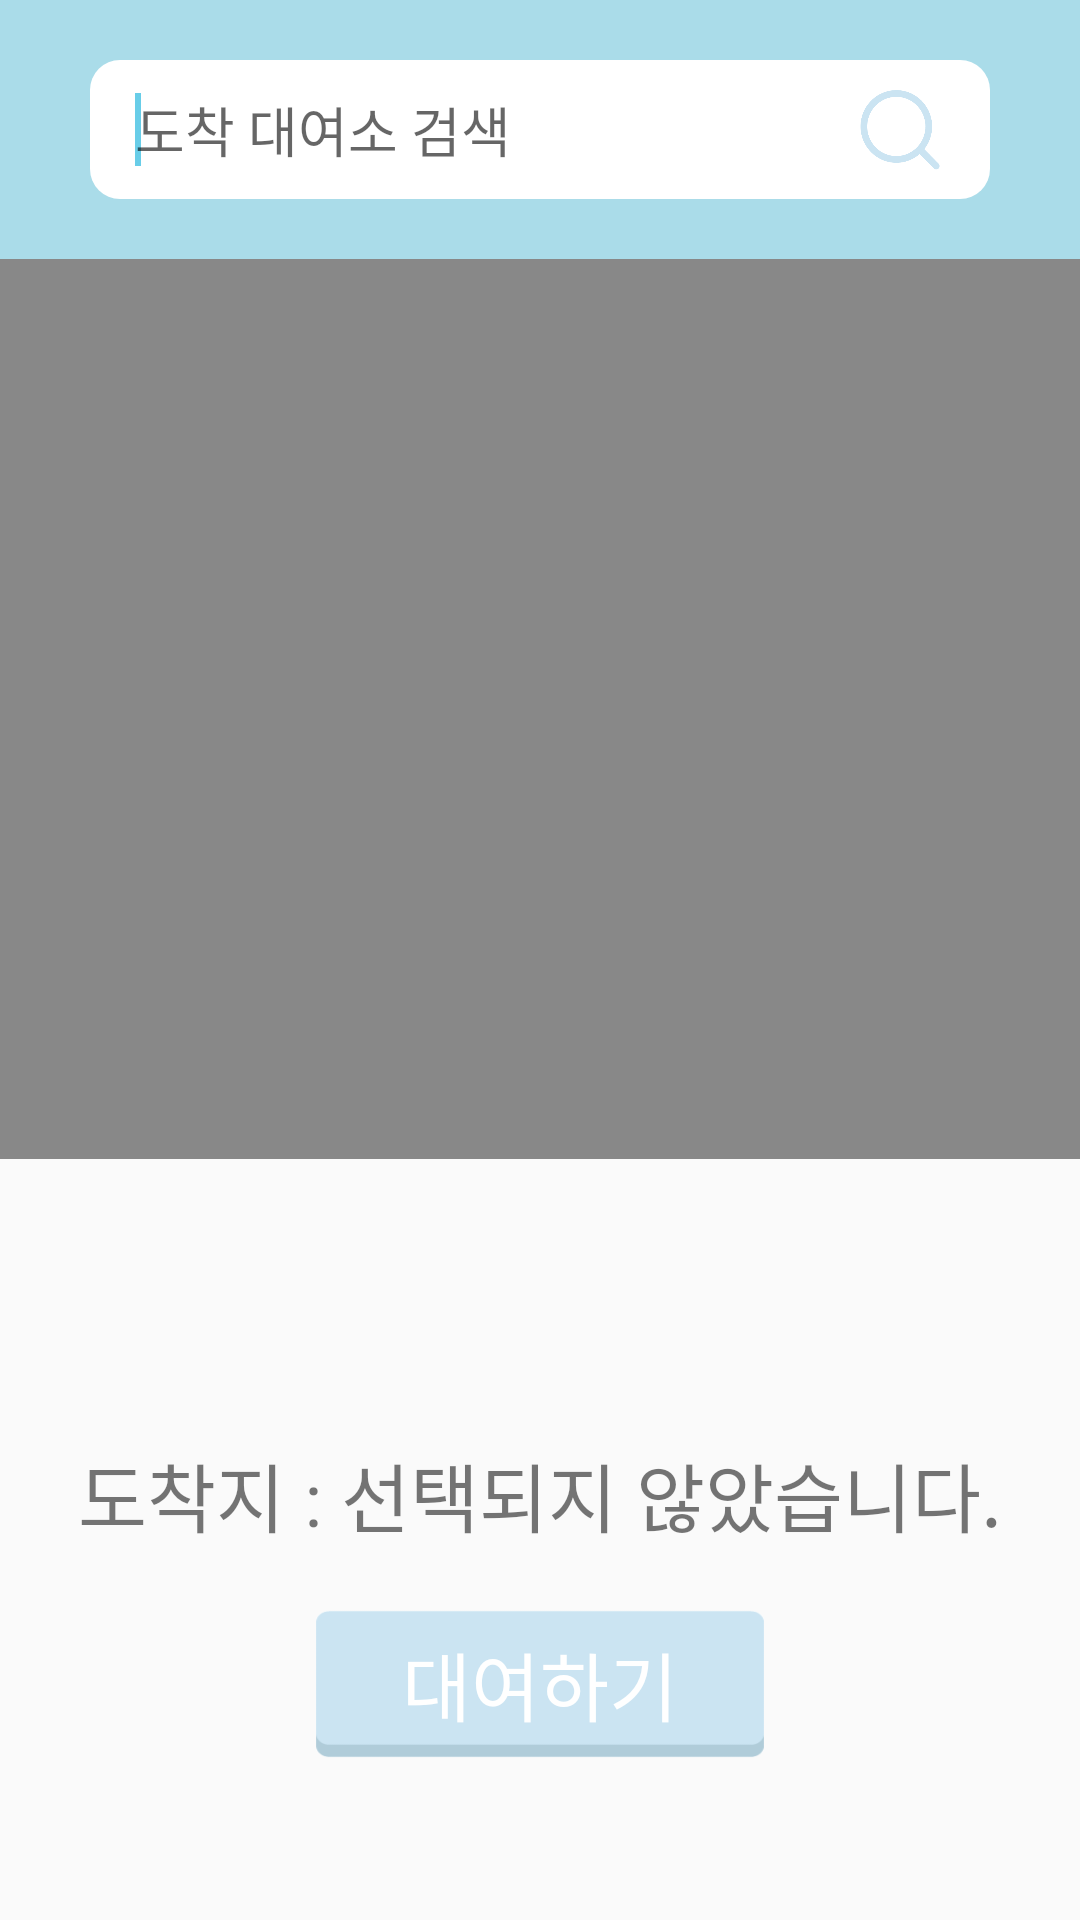

Where to tap for icons on this 1080*1920 app screen, as point (x, y):
search: point (900, 129)
